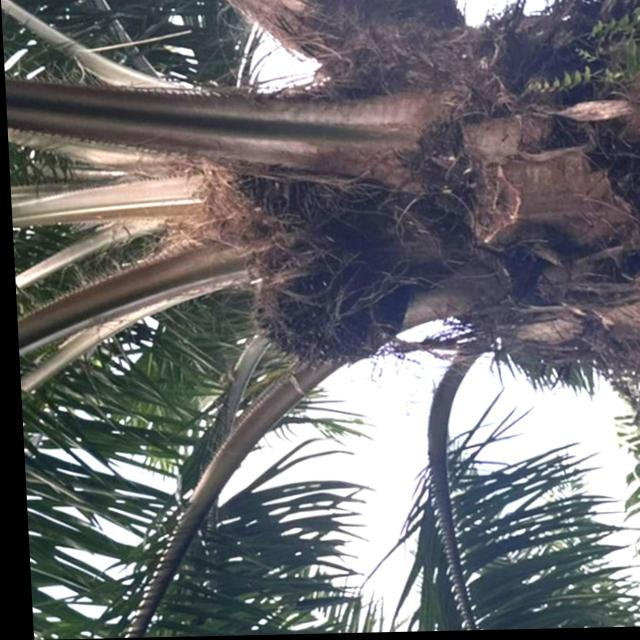unripe: (241, 237, 399, 378)
